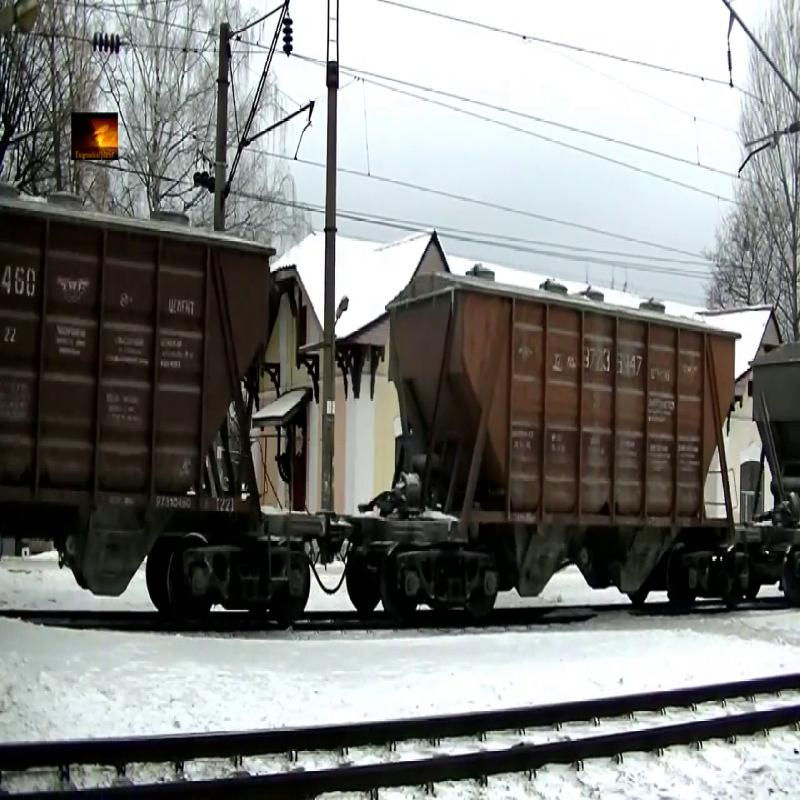train: (364, 274, 751, 644), (1, 209, 275, 623)
